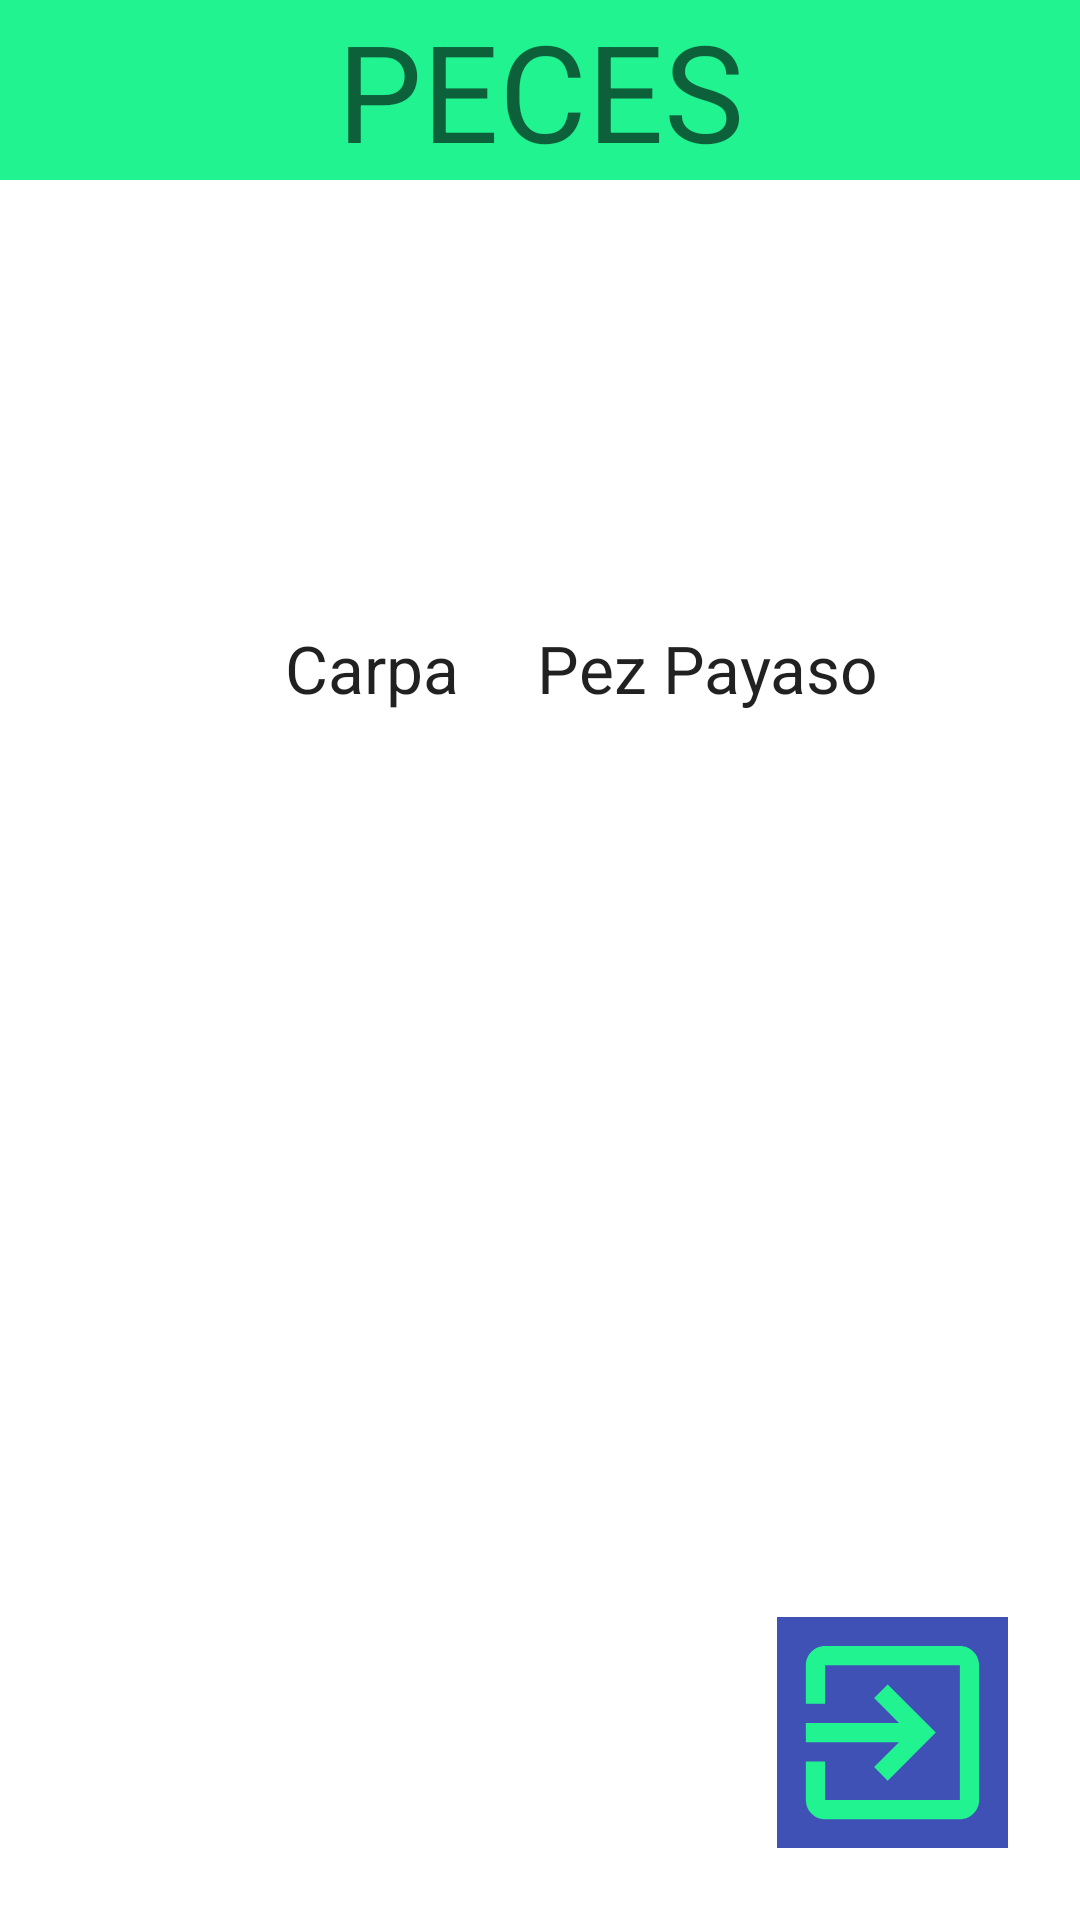

Locate icon controls on the screen. Image size 1080px×1920px, boxes as bbox=[x1, y1, x2, y2].
exit to app: bbox=[777, 1617, 1008, 1848]
